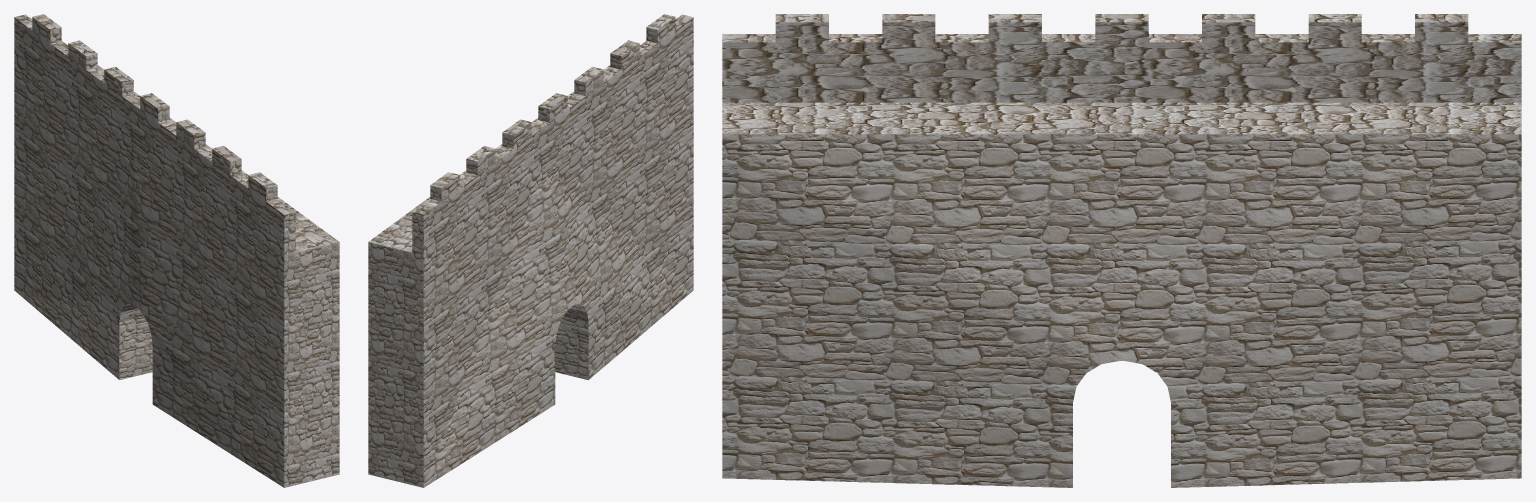
Rendered from wall_with_door.fbx.
3 renders of one model, left to right at view 1: azimuth 30°, elevation 25°; view 2: azimuth 150°, elevation 25°; view 3: azimuth 270°, elevation 25°, orthographic. The views are drawn at different scales.
Parts seen in each view (by area): view 1: Cube.015; view 2: Cube.015; view 3: Cube.015.
Boxes of the visible parts, left/top/right/bottom form: Cube.015: left=14, top=14, right=339, bottom=487; Cube.015: left=368, top=14, right=693, bottom=487; Cube.015: left=722, top=14, right=1521, bottom=487.
Bounding box in the file's own units: 295 × 987 × 1685.
Materials: 1 (1 with a texture image).
